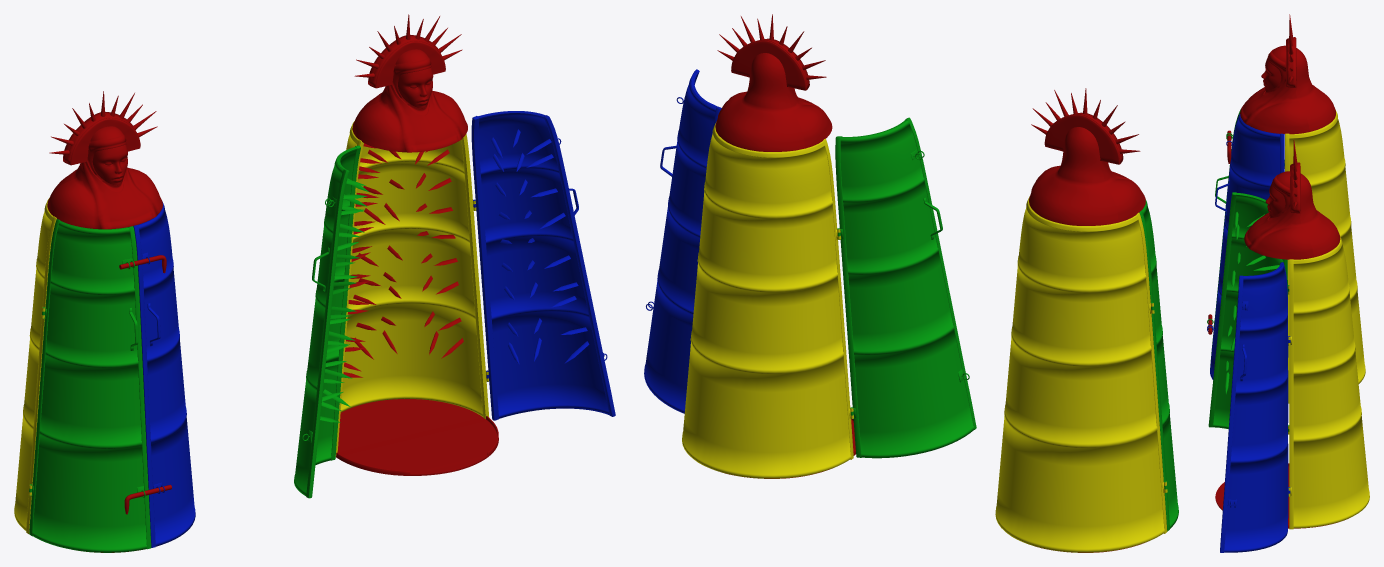
Rendered from IronMaiden.fbx.
3 renders of one model, left to right at view 1: azimuth 30°, elevation 25°; view 2: azimuth 150°, elevation 25°; view 3: azimuth 270°, elevation 25°, orthographic. The views are drawn at different scales.
Parts seen in each view (by area): view 1: Iron_Maiden_body, Iron_Maiden_door_right1, Iron_Maiden_door_left, Iron_Maiden_door_left1, Iron_Maiden_door_right, Iron_Maiden_head1, Iron_Maiden_head, Iron_Maiden_body1; view 2: Iron_Maiden_body, Iron_Maiden_body1, Iron_Maiden_door_right, Iron_Maiden_door_left, Iron_Maiden_head, Iron_Maiden_head1, Iron_Maiden_door_right1; view 3: Iron_Maiden_body, Iron_Maiden_door_left, Iron_Maiden_body1, Iron_Maiden_door_right, Iron_Maiden_head, Iron_Maiden_head1, Iron_Maiden_door_left1, Iron_Maiden_door_right1.
Boxes of the visible parts, x1,y1,x2,y2 form: Iron_Maiden_body: (335, 121, 498, 475); Iron_Maiden_door_right1: (29, 219, 151, 552); Iron_Maiden_door_left: (471, 111, 615, 420); Iron_Maiden_door_left1: (133, 202, 195, 547); Iron_Maiden_door_right: (294, 145, 369, 498); Iron_Maiden_head1: (47, 91, 162, 229); Iron_Maiden_head: (352, 14, 467, 152); Iron_Maiden_body1: (14, 197, 142, 552); Iron_Maiden_body: (682, 122, 855, 478); Iron_Maiden_body1: (995, 196, 1167, 552); Iron_Maiden_door_right: (835, 117, 976, 458); Iron_Maiden_door_left: (644, 69, 721, 413); Iron_Maiden_head: (715, 14, 832, 151); Iron_Maiden_head1: (1029, 88, 1145, 225); Iron_Maiden_door_right1: (1139, 199, 1178, 531); Iron_Maiden_body: (1215, 236, 1369, 529); Iron_Maiden_door_left: (1220, 262, 1290, 552); Iron_Maiden_body1: (1284, 110, 1365, 403); Iron_Maiden_door_right: (1208, 192, 1289, 434); Iron_Maiden_head: (1244, 140, 1340, 259); Iron_Maiden_head1: (1240, 14, 1335, 134); Iron_Maiden_door_left1: (1207, 114, 1284, 379); Iron_Maiden_door_right1: (1207, 109, 1284, 368).
Size of the model in its own units: 35.42 by 26.1 by 10.9.
